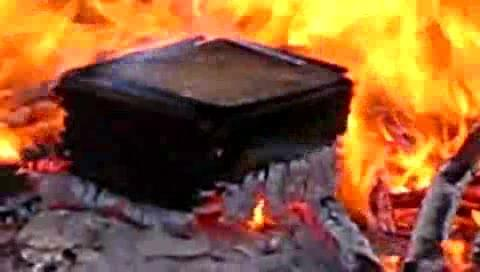fire: (363, 9, 474, 172), (173, 4, 358, 66), (6, 6, 159, 52)
